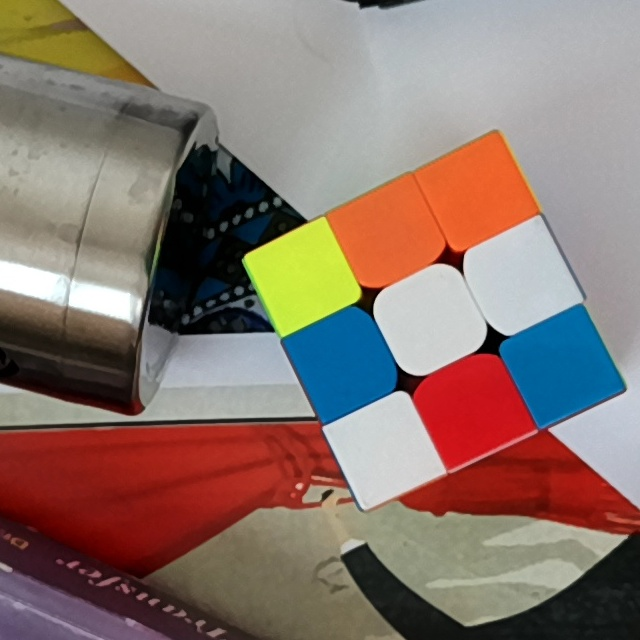tile: (484, 243, 553, 311), (400, 283, 467, 351), (525, 333, 594, 399), (442, 159, 513, 223), (442, 370, 506, 439), (312, 325, 376, 393), (350, 416, 418, 480), (353, 204, 421, 266), (275, 243, 335, 305)
